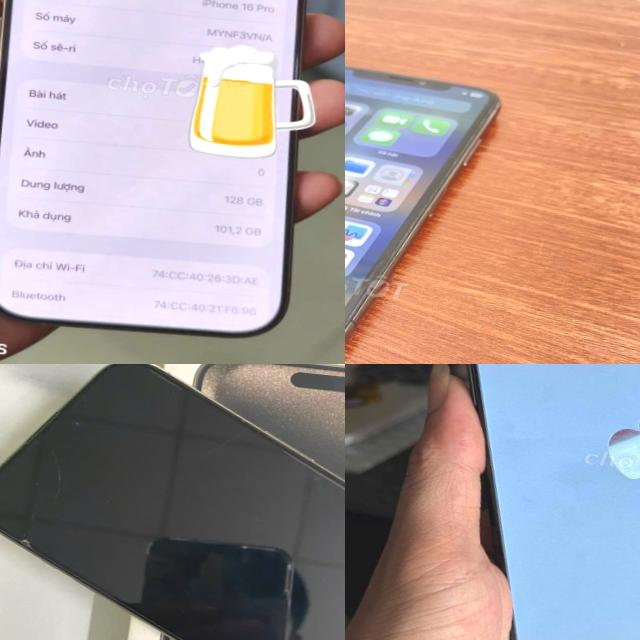gen_15: (0, 364, 345, 640), (394, 364, 640, 640)
gen_16: (0, 0, 317, 336)
gen_x_xs: (345, 67, 499, 334)
physical_damage: (0, 424, 73, 555), (156, 419, 269, 474), (295, 456, 345, 499)
scratch: (601, 410, 640, 482), (502, 628, 531, 640)
